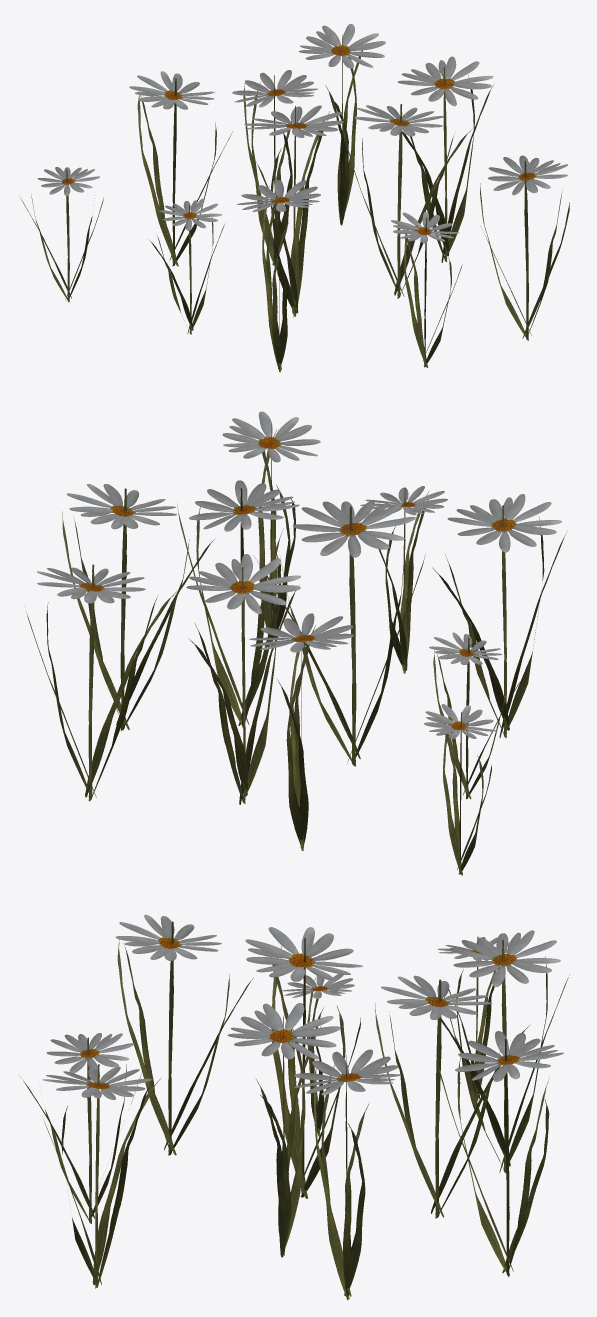
File: forest_flower2.fbx
The picture shows the model from 3 angles, top to bottom: view 1: azimuth 30°, elevation 25°; view 2: azimuth 150°, elevation 25°; view 3: azimuth 270°, elevation 25°; orthographic projection. The views are drawn at different scales.
Parts seen in each view (by area): view 1: StaticMeshActor_52_StaticMeshComponent0; view 2: StaticMeshActor_52_StaticMeshComponent0; view 3: StaticMeshActor_52_StaticMeshComponent0.
Boxes of the visible parts, x1,y1,x2,y2 form: StaticMeshActor_52_StaticMeshComponent0: (20,24,569,372); StaticMeshActor_52_StaticMeshComponent0: (25,411,567,875); StaticMeshActor_52_StaticMeshComponent0: (20,914,569,1300).
Size of the model in its own units: 2.9 by 1.41 by 2.75.
